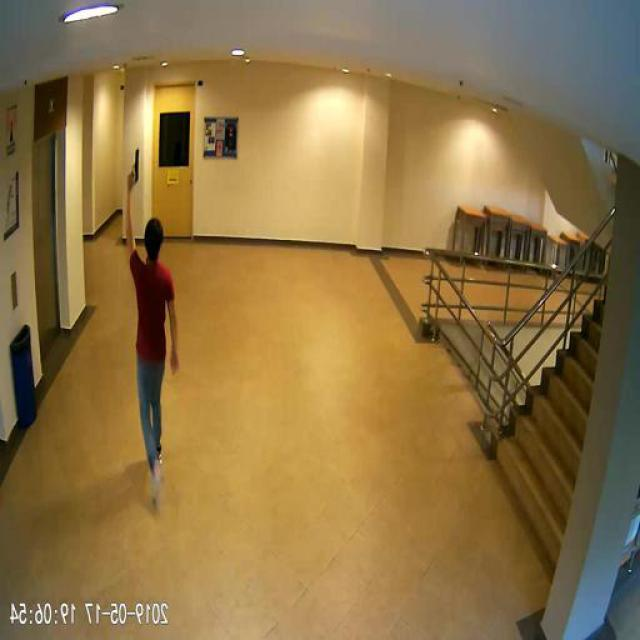Gun: (128, 145, 142, 184)
